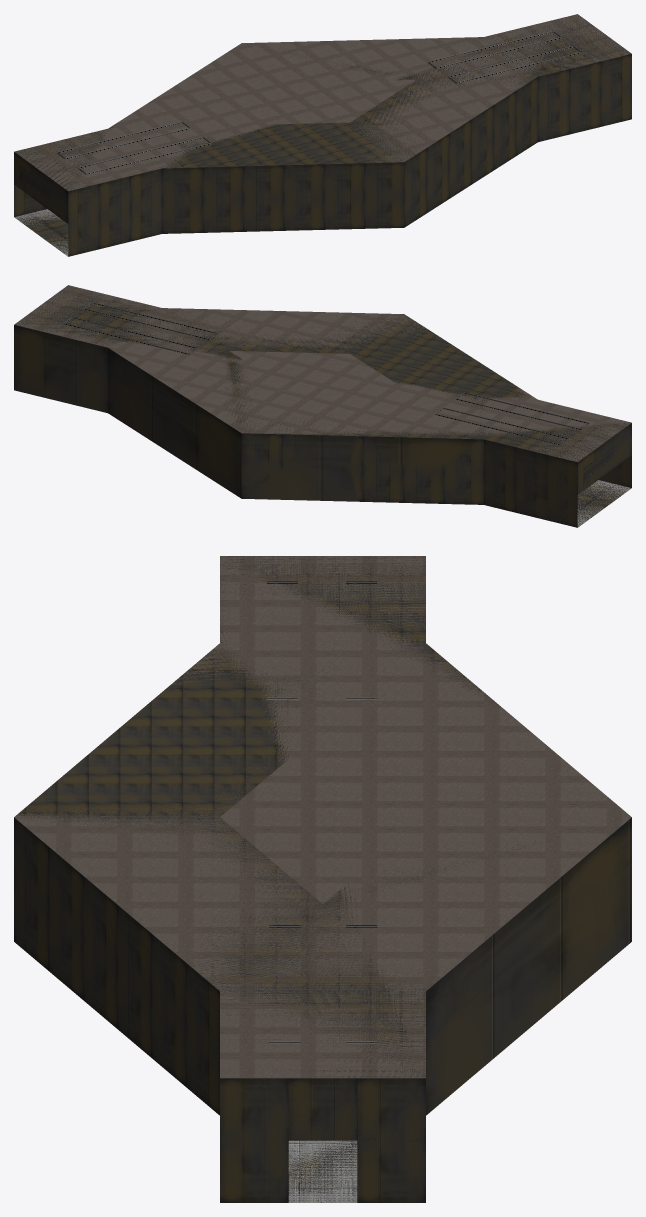
Rendered from mint_diamond_room.fbx.
The picture shows the model from 3 angles, top to bottom: view 1: azimuth 30°, elevation 25°; view 2: azimuth 150°, elevation 25°; view 3: azimuth 270°, elevation 25°; orthographic projection. The views are drawn at different scales.
Parts seen in each view (by area): view 1: Ceiling, Ceiling3, W8, W9, W12, W6, W25, floor26, W26, LongLights:Lights1, LongLights:Lights4, W13 (+3 smaller); view 2: Ceiling, Ceiling3, W22, W28, W10, W30, W13, W27, W25, floor26, floor, LongLights:Lights6 (+5 smaller); view 3: Ceiling, Ceiling3, W9, W28, W15, floor, floor26, W29.
Boxes of the visible parts, left/top/right/bottom form: Ceiling: left=15, top=14, right=631, bottom=190; Ceiling3: left=14, top=14, right=631, bottom=191; W8: left=162, top=162, right=404, bottom=233; W9: left=404, top=77, right=537, bottom=227; W12: left=68, top=169, right=162, bottom=256; W6: left=538, top=54, right=631, bottom=142; W25: left=14, top=152, right=68, bottom=223; floor26: left=15, top=209, right=68, bottom=256; W26: left=68, top=168, right=162, bottom=255; LongLights:Lights1: left=428, top=31, right=561, bottom=68; LongLights:Lights4: left=57, top=121, right=190, bottom=159; W13: left=14, top=184, right=46, bottom=216; Ceiling: left=14, top=285, right=631, bottom=462; Ceiling3: left=14, top=285, right=630, bottom=461; W22: left=241, top=433, right=483, bottom=504; W28: left=108, top=348, right=241, bottom=498; W10: left=241, top=433, right=483, bottom=504; W30: left=14, top=325, right=107, bottom=413; W13: left=483, top=439, right=577, bottom=527; W27: left=483, top=440, right=577, bottom=527; W25: left=577, top=423, right=631, bottom=494; floor26: left=577, top=481, right=631, bottom=526; floor: left=577, top=480, right=631, bottom=527; LongLights:Lights6: left=456, top=392, right=589, bottom=429; Ceiling: left=14, top=556, right=631, bottom=1078; Ceiling3: left=16, top=556, right=585, bottom=1078; W9: left=14, top=817, right=219, bottom=1115; W28: left=426, top=817, right=631, bottom=1115; W15: left=220, top=1078, right=425, bottom=1202; floor: left=288, top=1140, right=357, bottom=1202; floor26: left=288, top=1140, right=357, bottom=1202; W29: left=220, top=1078, right=425, bottom=1140.
Size of the model in its own units: 270 by 30.68 by 135.
